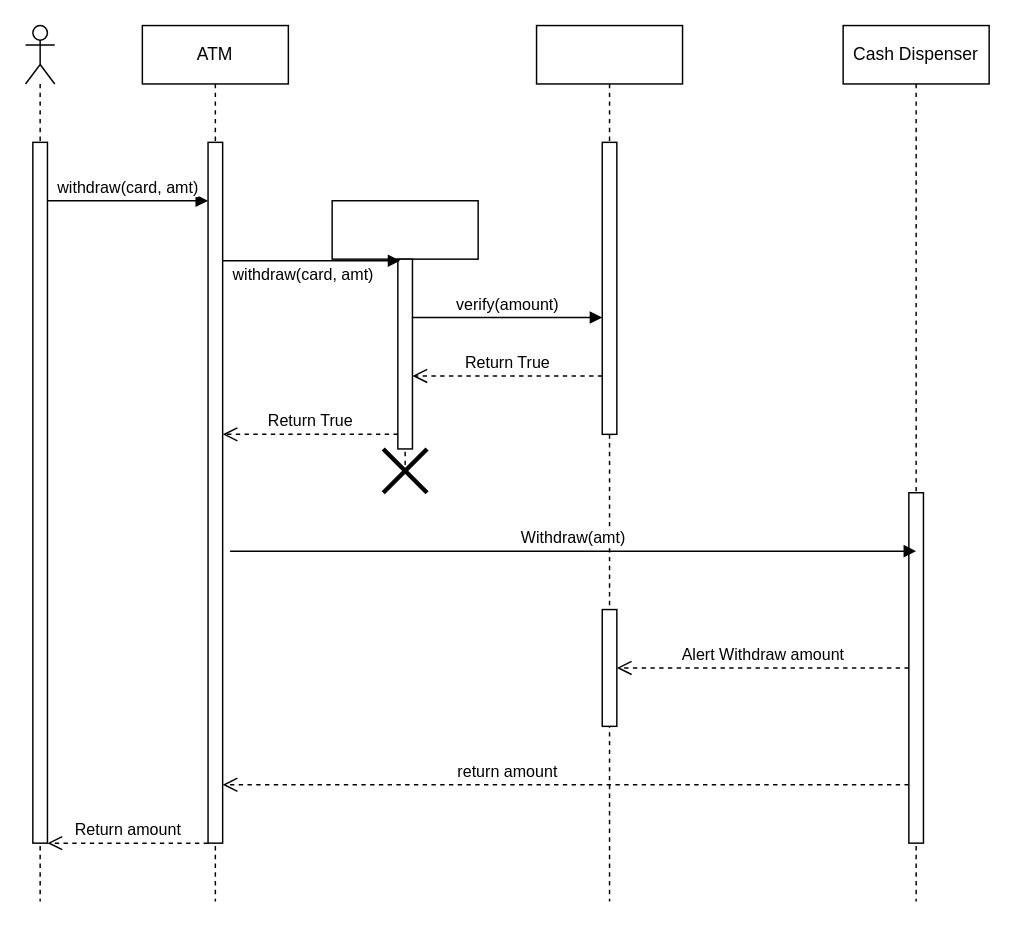
This 1015x927 diagram has some shape labels left out. Each missing label, with the box of its shape:
Account: (535, 24, 683, 902)
Transaction: (331, 199, 478, 478)
